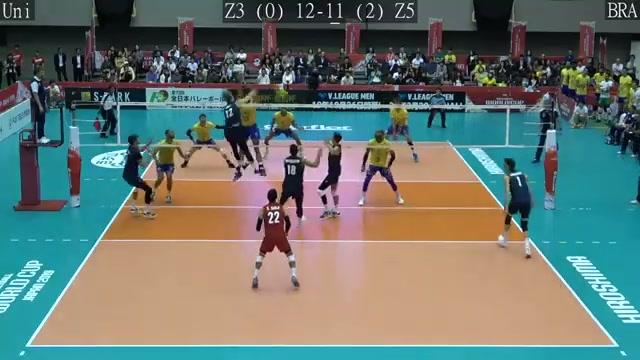ball: (273, 85, 296, 101)
